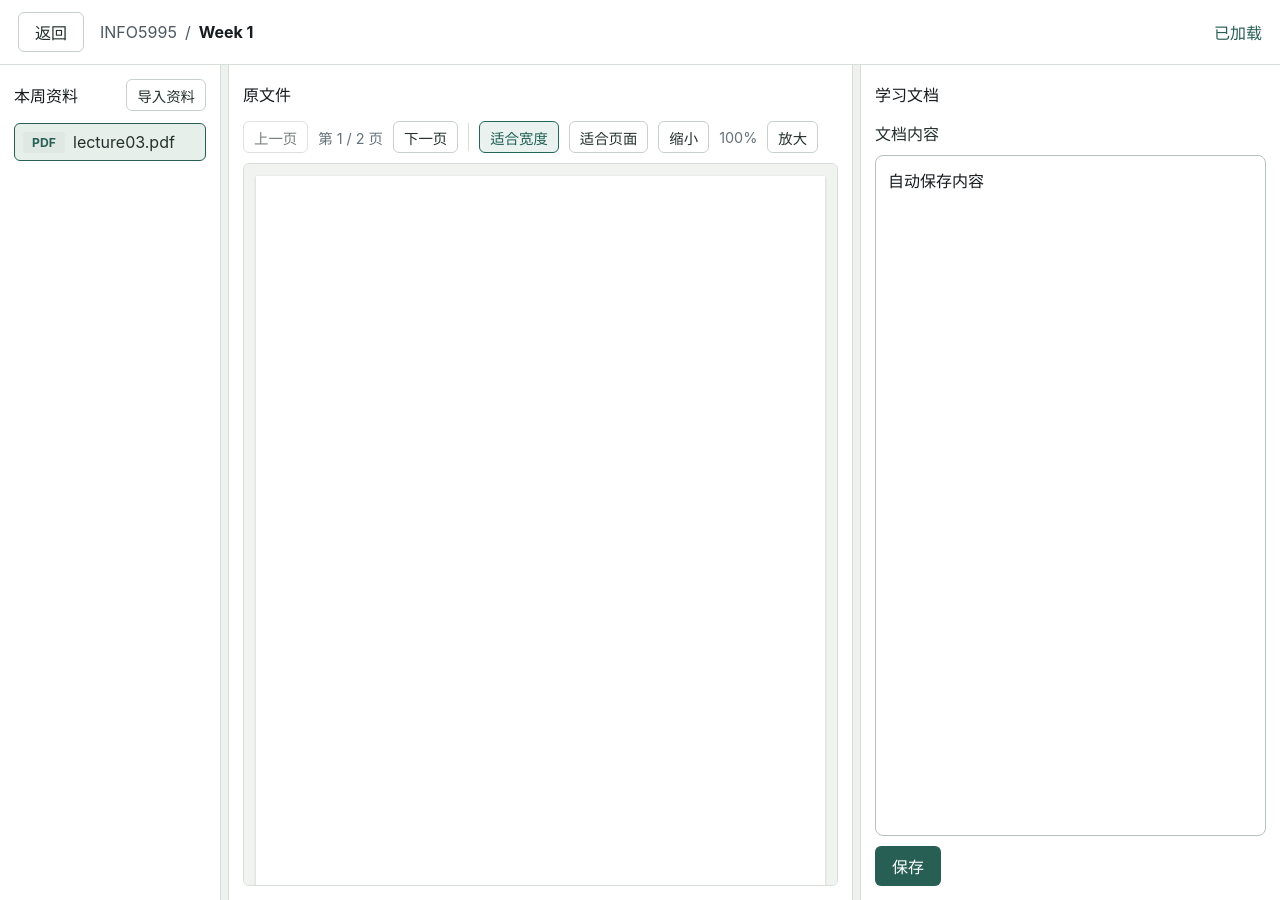
Test case: WorkspacePage › Document 自动保存成功
Expected: the text "INFO5995" is shown, [100,22,177,42]
Expected: the text "Week 1" is shown, [199,22,253,42]
Clear the field named "文档内容" at (1070, 496), box [875,155,1266,836]
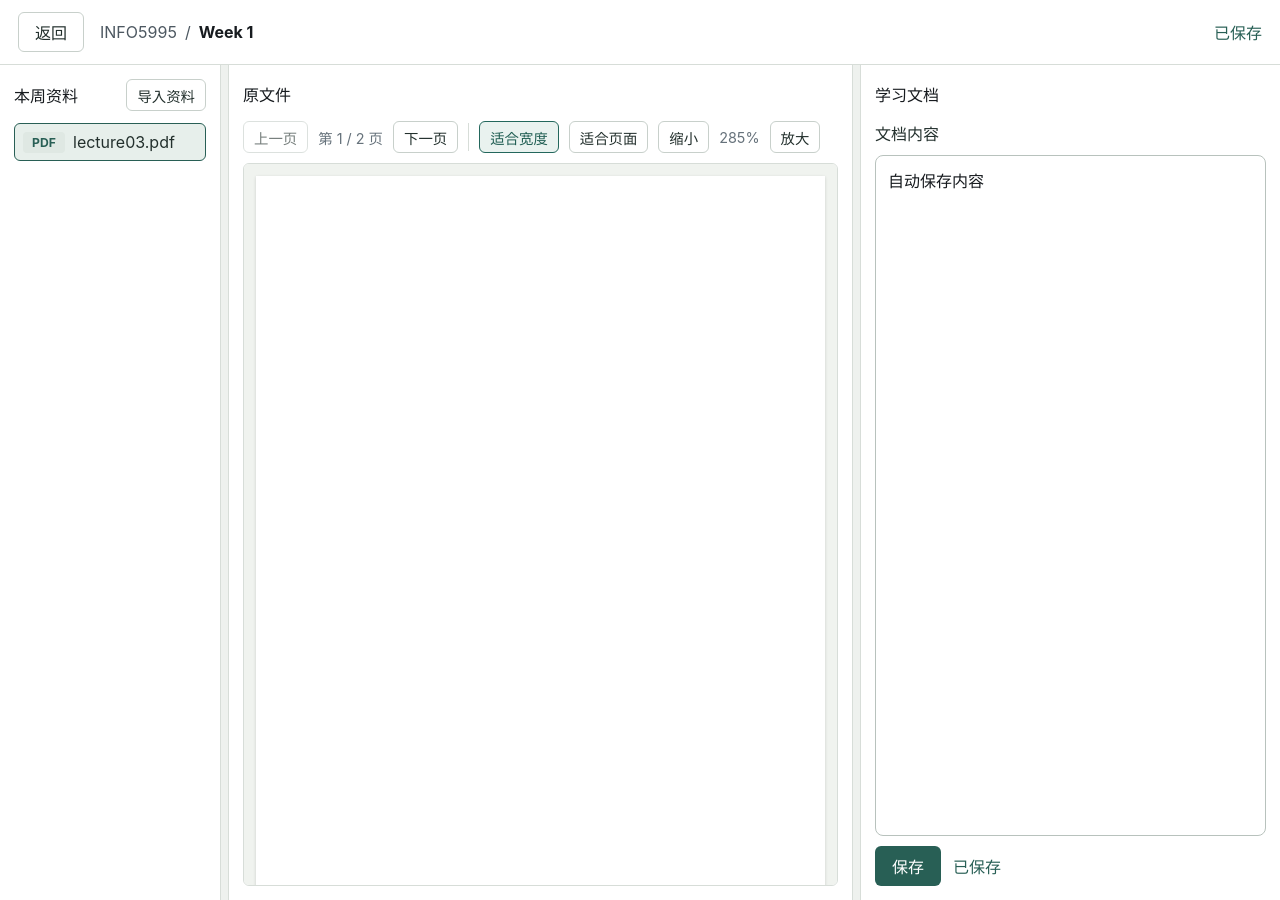
Expected: the text "已保存" is shown, [953,854,1001,878]
